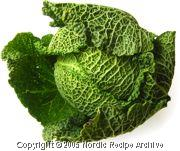cabbage: (1, 0, 177, 145)
